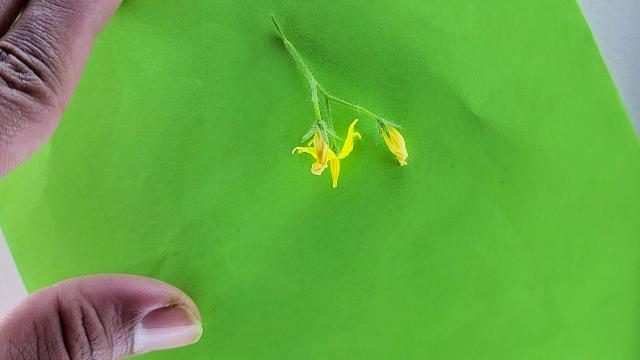Anthesis: (291, 118, 362, 189), (378, 120, 410, 168)
